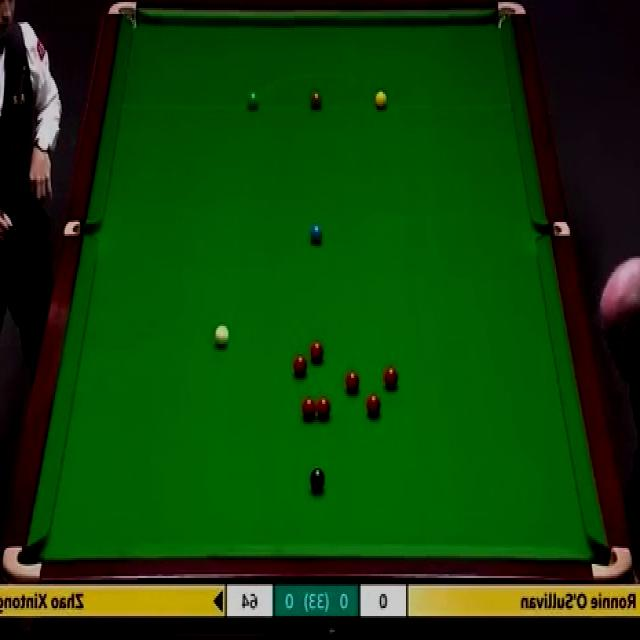black-ball: (309, 468, 326, 490)
blue-ball: (309, 224, 323, 246)
brown-ball: (310, 90, 324, 110)
green-ball: (247, 91, 260, 108)
red-ball: (365, 392, 382, 418), (300, 397, 317, 420), (310, 339, 324, 365), (316, 397, 332, 419), (383, 365, 398, 388), (293, 354, 307, 377), (346, 371, 360, 393)
white-ball: (213, 324, 230, 349)
yellow-ball: (376, 90, 388, 109)
